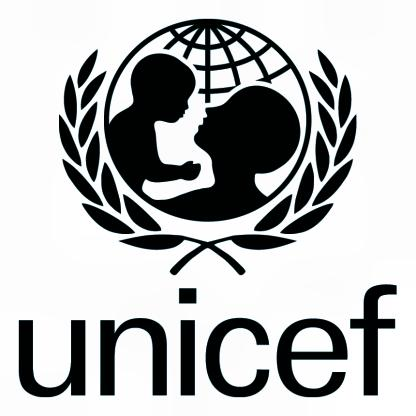Unicef: (56, 15, 359, 277), (12, 279, 401, 404)
